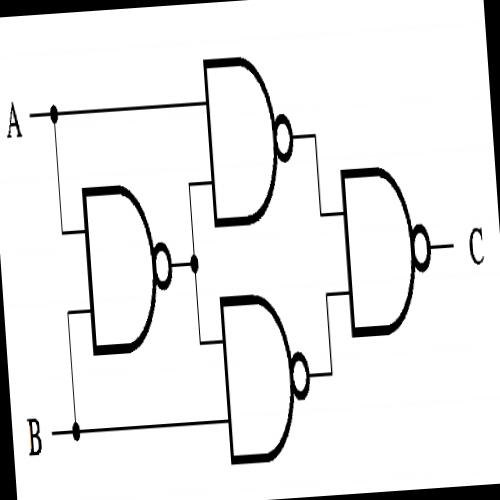nand: (72, 169, 187, 366), (332, 150, 443, 351), (213, 278, 321, 475), (196, 45, 304, 236)
